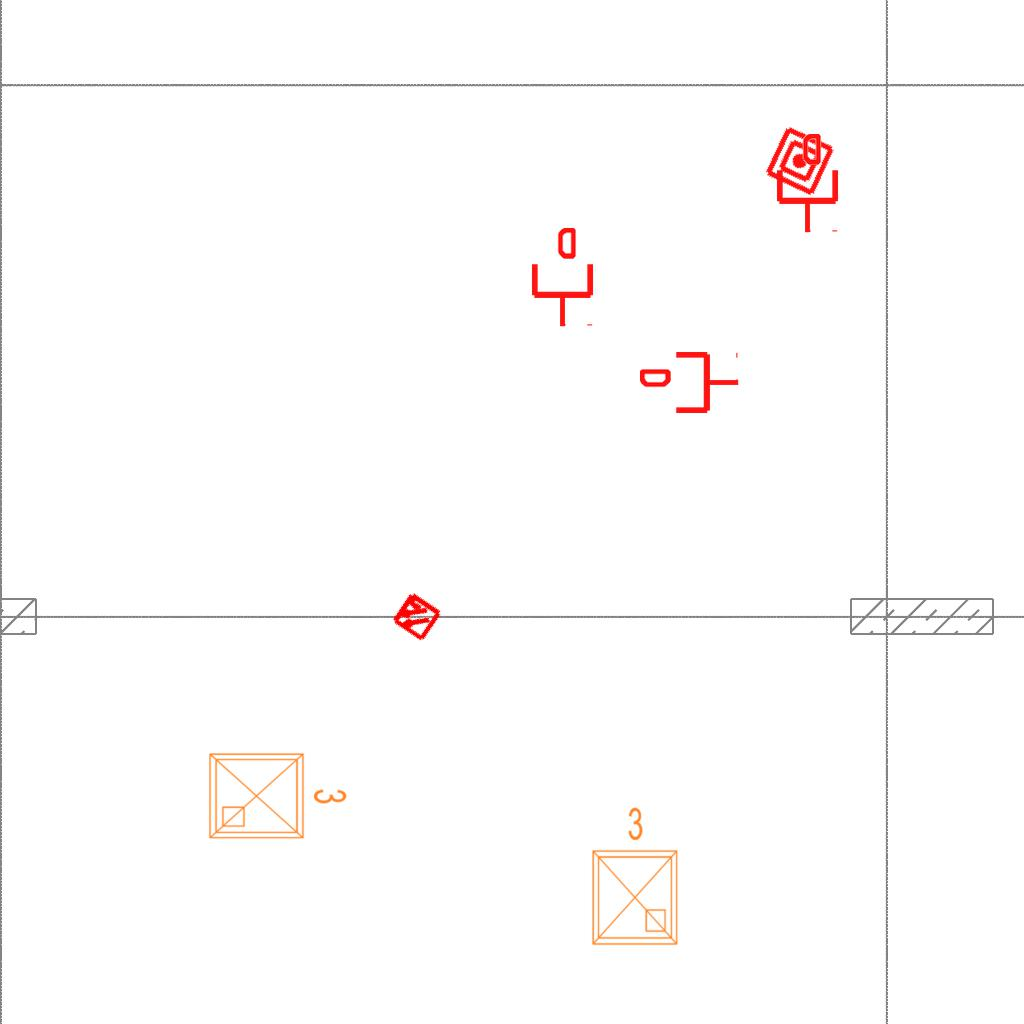Datenanschluss_einfach: (528, 228, 597, 328), (640, 348, 740, 417), (773, 134, 842, 234)
Einbaudownlights_LED_Konferenzraeume: (202, 742, 352, 846), (581, 802, 685, 952)
NAM-Nichtautomatischer_Melder: (762, 123, 838, 199)
OT_Multisensormelder_(Kombination_RMO_WMD): (377, 577, 455, 655)
